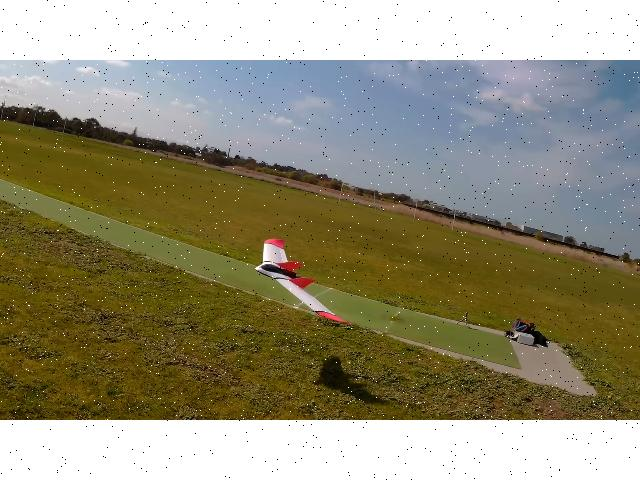Anti-Drone: (255, 239, 349, 323)
